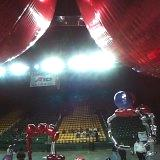Purple_Balloon: (113, 90, 131, 109)
